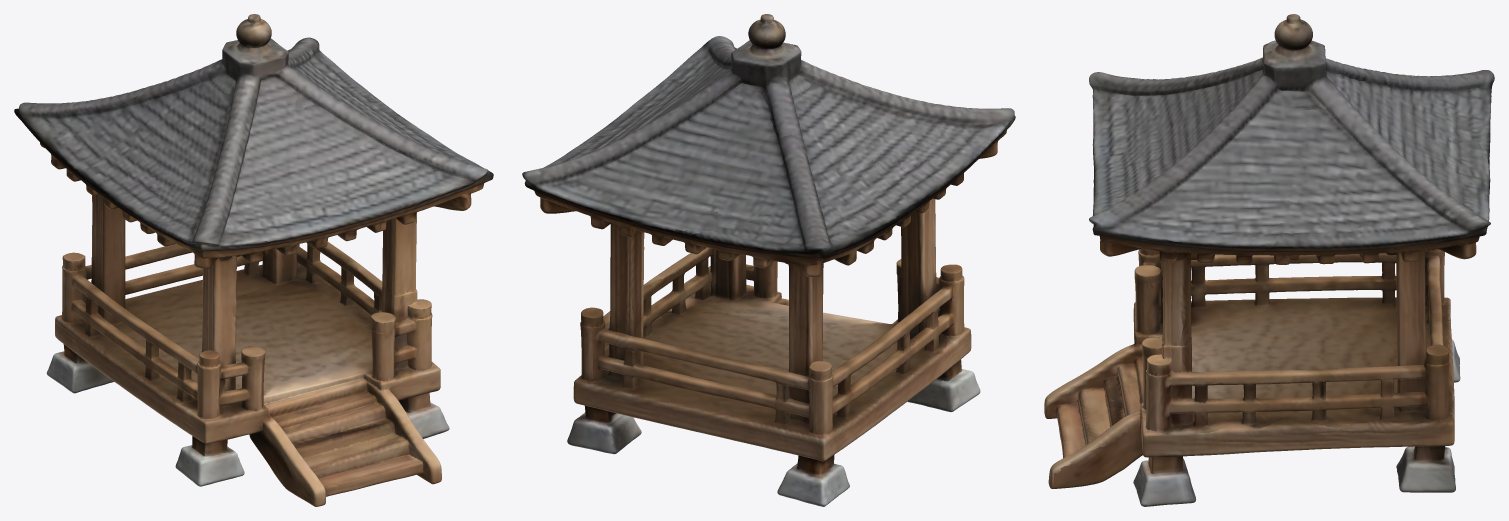
Rendered from wooden-gazebo-refined-v1.glb.
3 views of the same model, side by side, from view 1: azimuth 30°, elevation 25°; view 2: azimuth 150°, elevation 25°; view 3: azimuth 270°, elevation 25° (orthographic). The views are drawn at different scales.
Parts seen in each view (by area): view 1: WG_Wooden_Gazebo_Refined; view 2: WG_Wooden_Gazebo_Refined; view 3: WG_Wooden_Gazebo_Refined.
Boxes of the visible parts, x1=… form: WG_Wooden_Gazebo_Refined: x1=14, y1=14, x2=493, y2=506; WG_Wooden_Gazebo_Refined: x1=522, y1=14, x2=1015, y2=506; WG_Wooden_Gazebo_Refined: x1=1044, y1=14, x2=1494, y2=506.
Bounding box in the file's own units: 3.16 × 4 × 3.75.
Materials: 4 (4 with a texture image).
